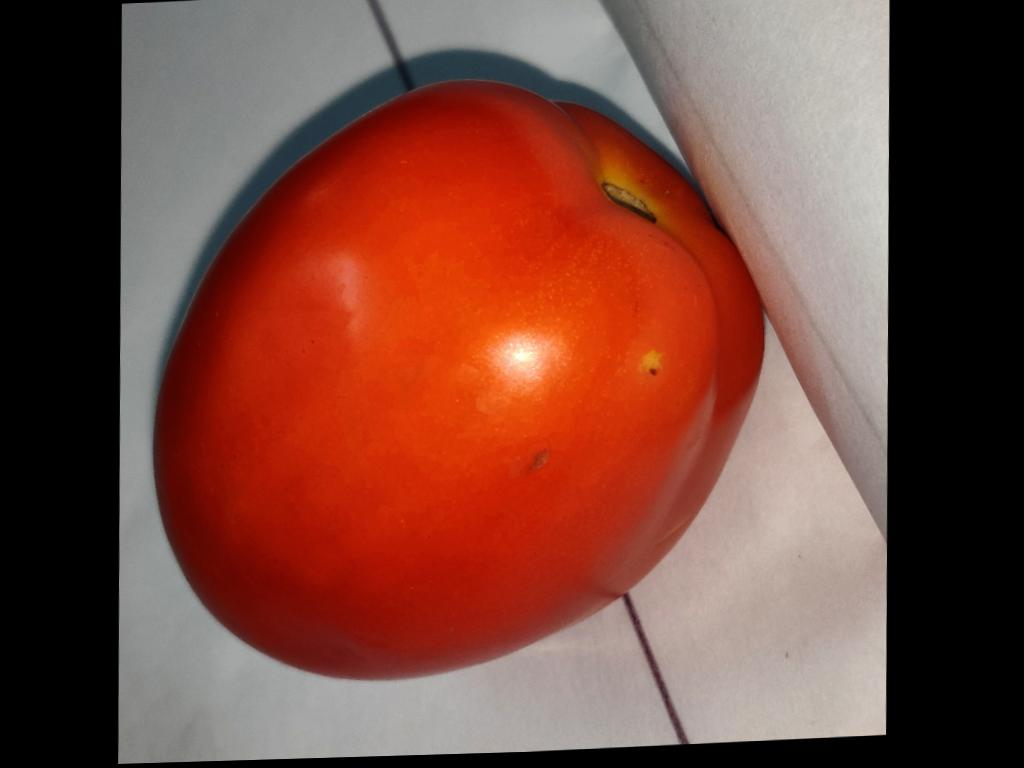surface_damage: (638, 348, 661, 372), (531, 450, 544, 466)
tomato: (154, 79, 761, 677)
